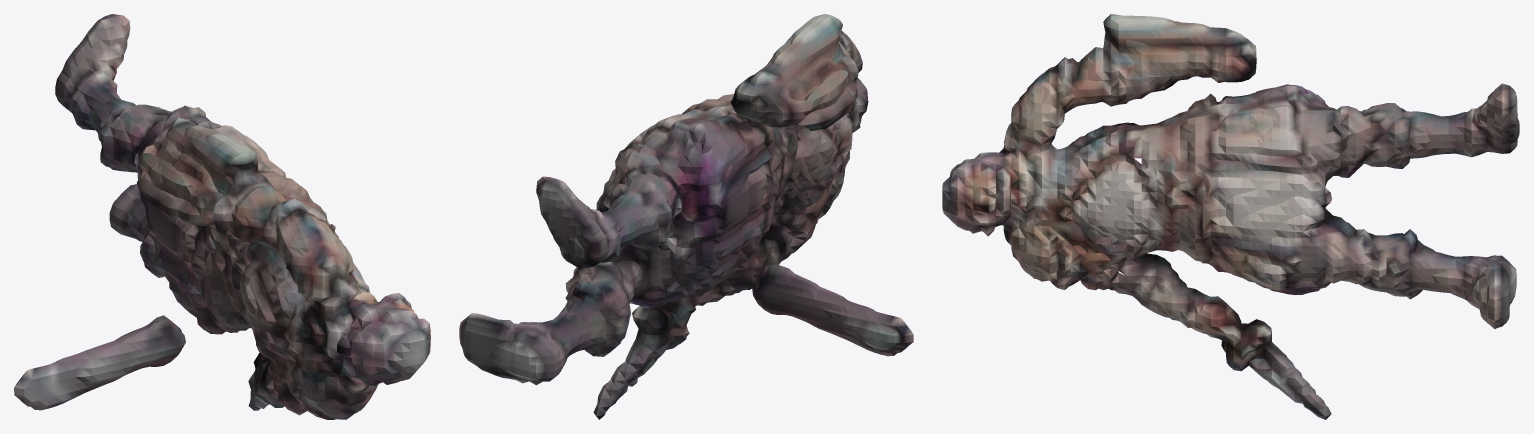
The model's file is ancient_warrior_m_0.glb.
The picture shows the model from 3 angles, left to right: view 1: azimuth 30°, elevation 25°; view 2: azimuth 150°, elevation 25°; view 3: azimuth 270°, elevation 25°; orthographic projection. The views are drawn at different scales.
Parts seen in each view (by area): view 1: world; view 2: world; view 3: world.
Part boxes in pixels (x1,y1,x2,y2): world: (14, 14, 430, 419); world: (459, 14, 913, 419); world: (942, 14, 1519, 419).
Size of the model in its own units: 0.6553 by 0.6822 by 1.03.
